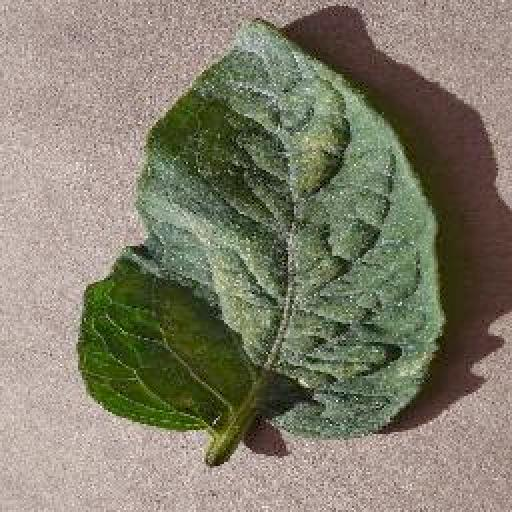disease_tomato: (80, 16, 446, 438)
